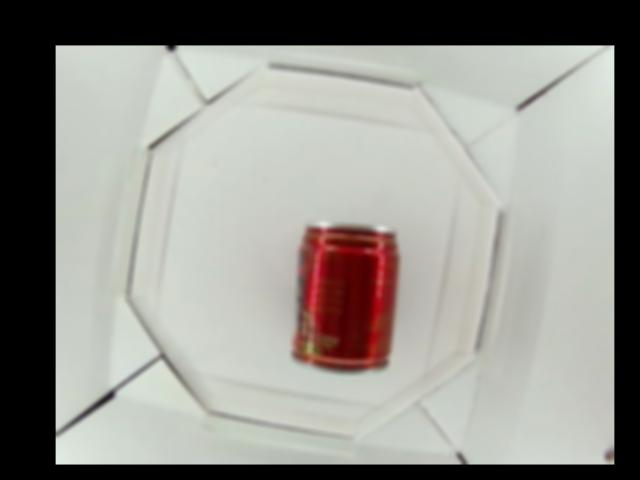Bottle: (289, 221, 403, 378)
